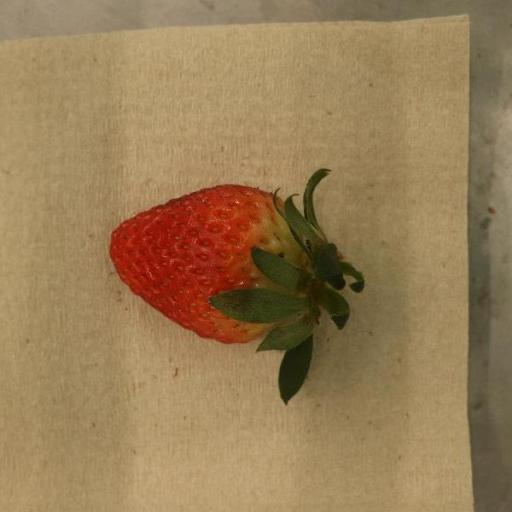Strawberry: (110, 169, 366, 404)
